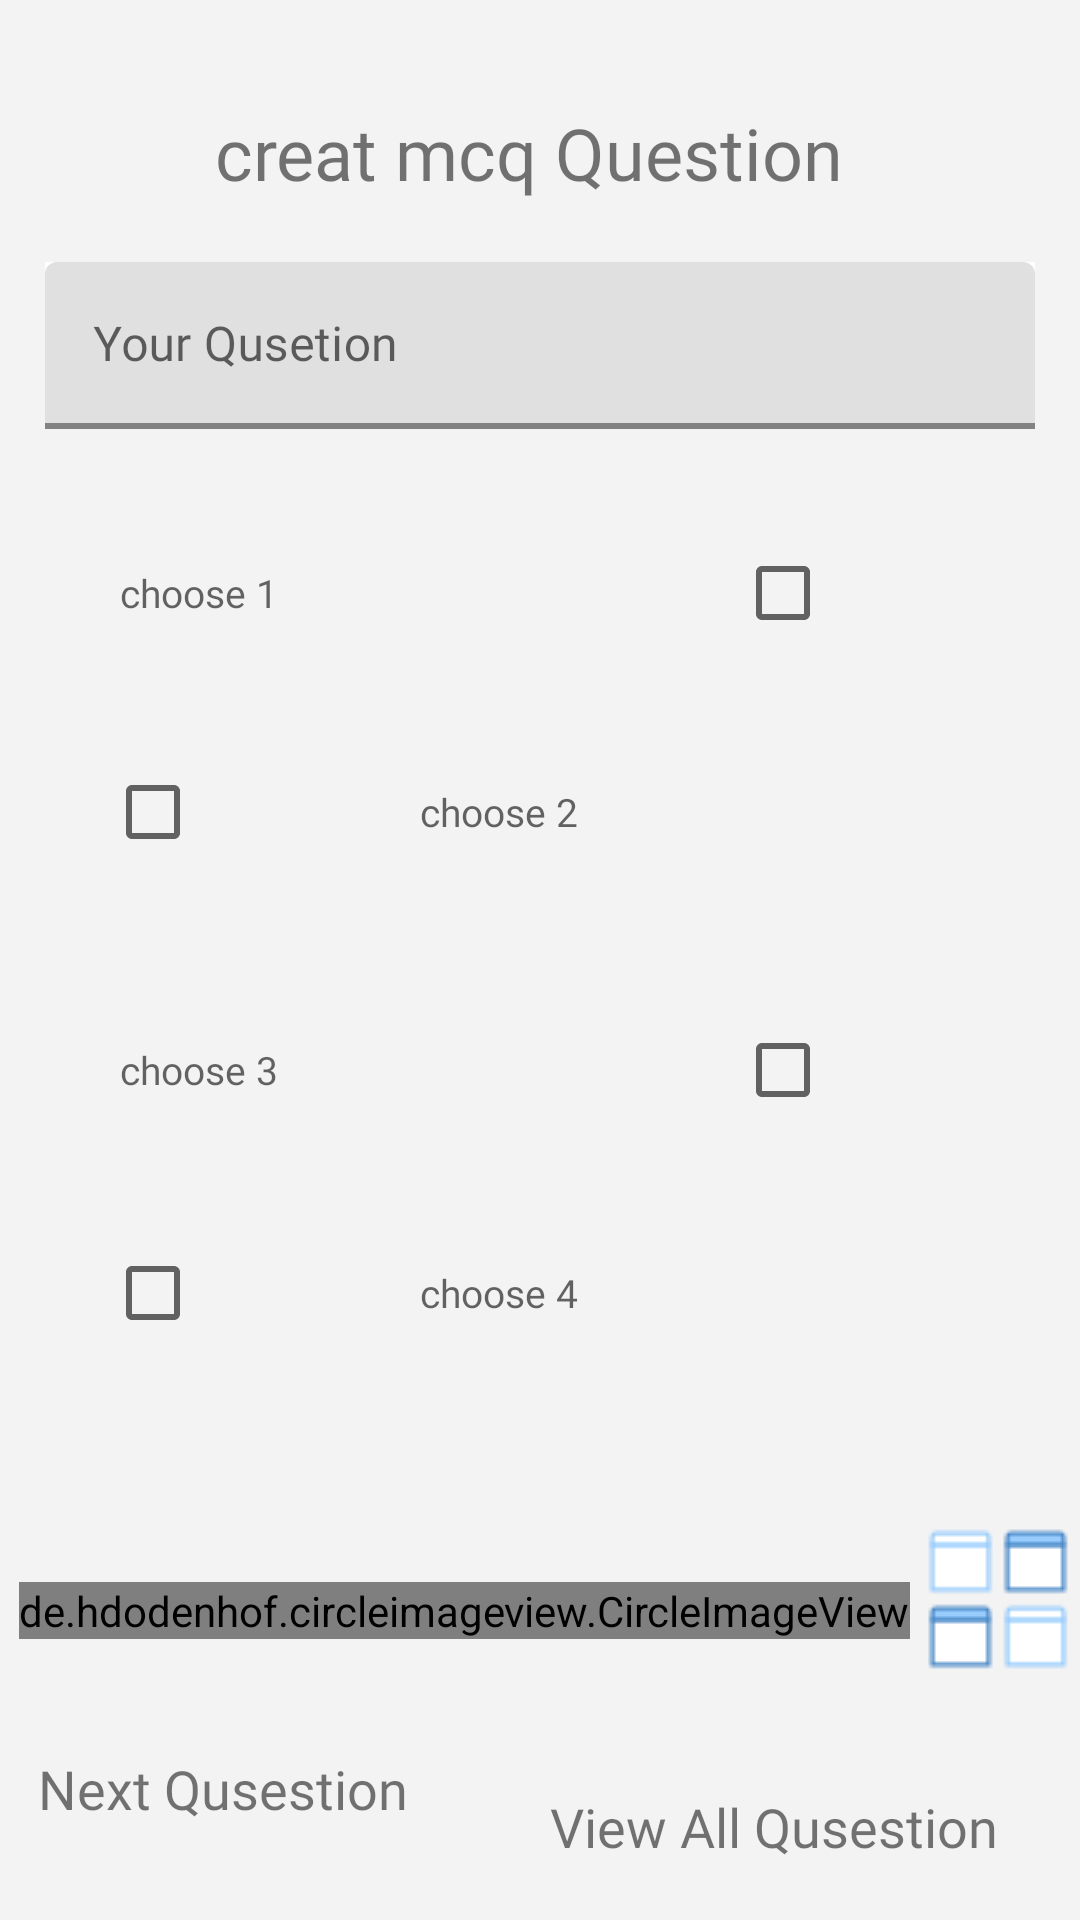

Icon bounding boxes for this 1080px×1920px phone screenshot, format [x1=x1, y1=y1, x2=x2, y2=y2]:
viewalls: [x1=928, y1=1529, x2=1068, y2=1669]
